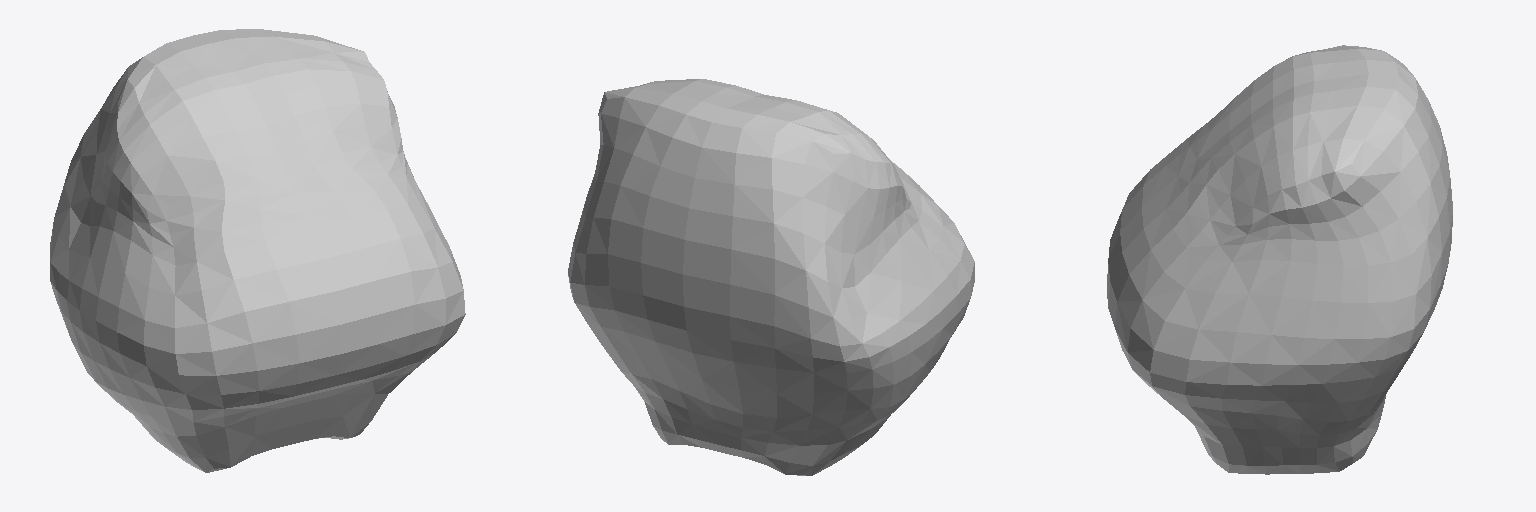
Rendered from f_torso.obj.
3 views of the same model, side by side, from view 1: azimuth 30°, elevation 25°; view 2: azimuth 150°, elevation 25°; view 3: azimuth 270°, elevation 25° (orthographic).
Visible parts, largest first — view 1: pCube3; view 2: pCube3; view 3: pCube3.
Boxes of the visible parts, x1=… form: pCube3: x1=50, y1=29, x2=465, y2=472; pCube3: x1=568, y1=79, x2=974, y2=475; pCube3: x1=1107, y1=45, x2=1452, y2=474.
Bounding box in the file's own units: 1.39 × 1.44 × 1.25.